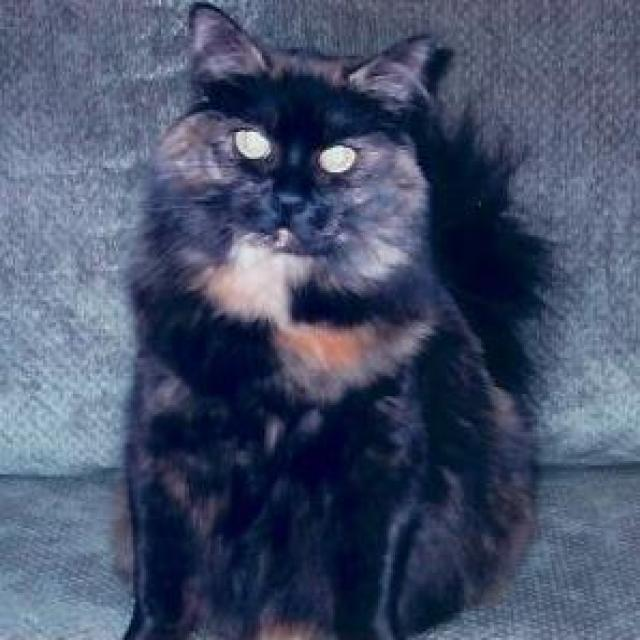Cats: (97, 0, 543, 638)
